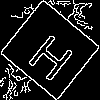H: (25, 25, 82, 84)
